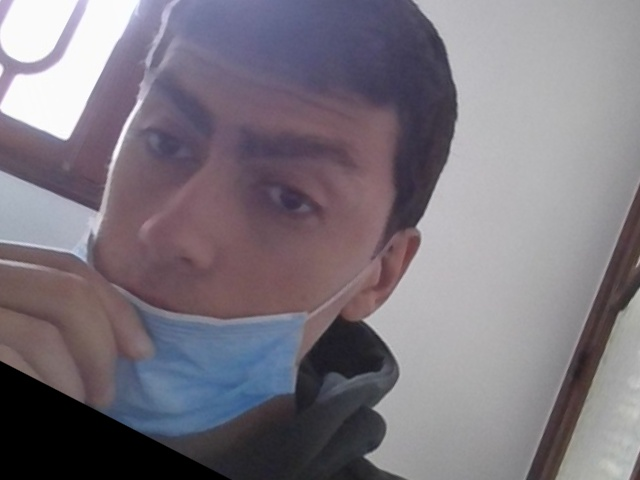mask_weared_incorrect: (70, 29, 406, 439)
